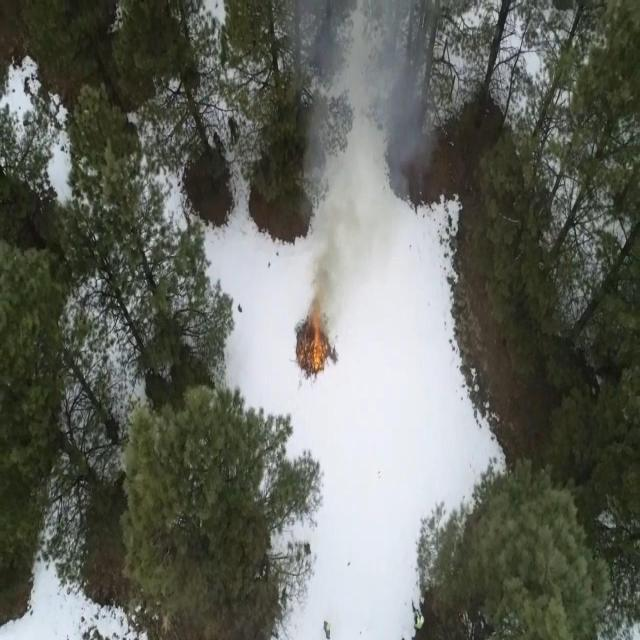Fire: (304, 316, 326, 377)
Smoke: (292, 2, 418, 308)
